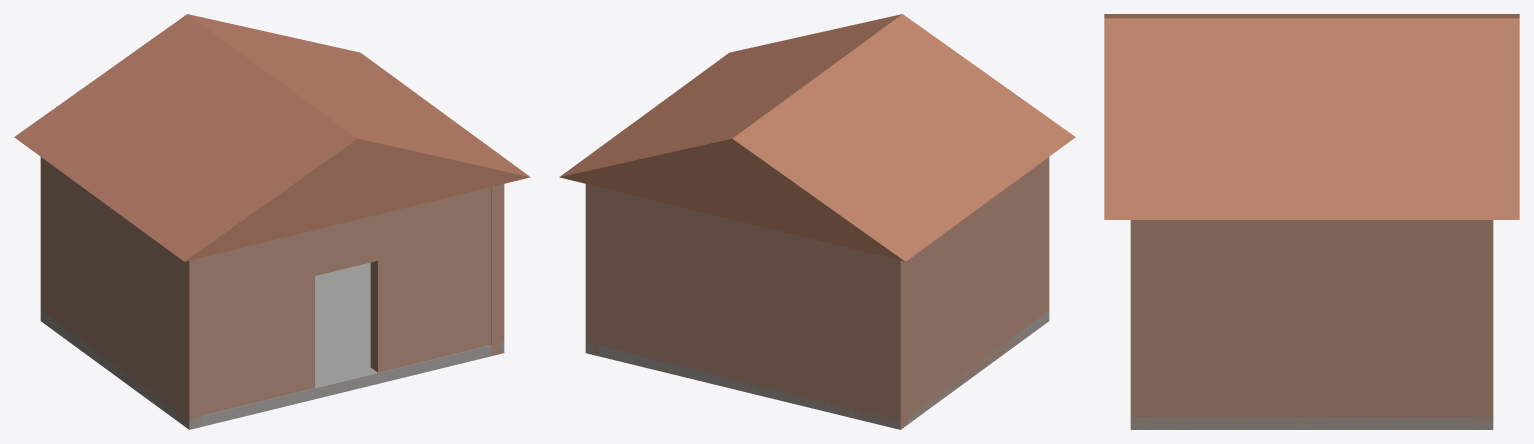
The model's file is house_brick.glb.
3 views of the same model, side by side, from view 1: azimuth 30°, elevation 25°; view 2: azimuth 150°, elevation 25°; view 3: azimuth 270°, elevation 25° (orthographic). The views are drawn at different scales.
Visible parts, largest first — view 1: roof_removable, part_2, part_5, part_4, part_0, part_6, part_3, part_1; view 2: roof_removable, part_1, part_2, part_0, part_3; view 3: roof_removable, part_3, part_0, part_1, part_5.
Boxes of the visible parts, x1=… form: roof_removable: x1=14, y1=14, x2=530, y2=261; part_2: x1=40, y1=158, x2=201, y2=429; part_5: x1=370, y1=187, x2=491, y2=372; part_4: x1=181, y1=230, x2=314, y2=424; part_0: x1=40, y1=262, x2=504, y2=429; part_6: x1=315, y1=214, x2=377, y2=275; part_3: x1=491, y1=184, x2=504, y2=355; part_1: x1=40, y1=157, x2=47, y2=323; roof_removable: x1=559, y1=14, x2=1075, y2=261; part_1: x1=585, y1=184, x2=907, y2=429; part_2: x1=888, y1=157, x2=1049, y2=427; part_0: x1=585, y1=310, x2=1049, y2=429; part_3: x1=585, y1=184, x2=598, y2=355; roof_removable: x1=1104, y1=14, x2=1519, y2=219; part_3: x1=1130, y1=220, x2=1493, y2=429; part_0: x1=1130, y1=417, x2=1493, y2=429; part_1: x1=1475, y1=220, x2=1493, y2=429; part_5: x1=1131, y1=220, x2=1148, y2=429.
Bounding box in the file's own units: 6.05 × 4.35 × 5.15.
